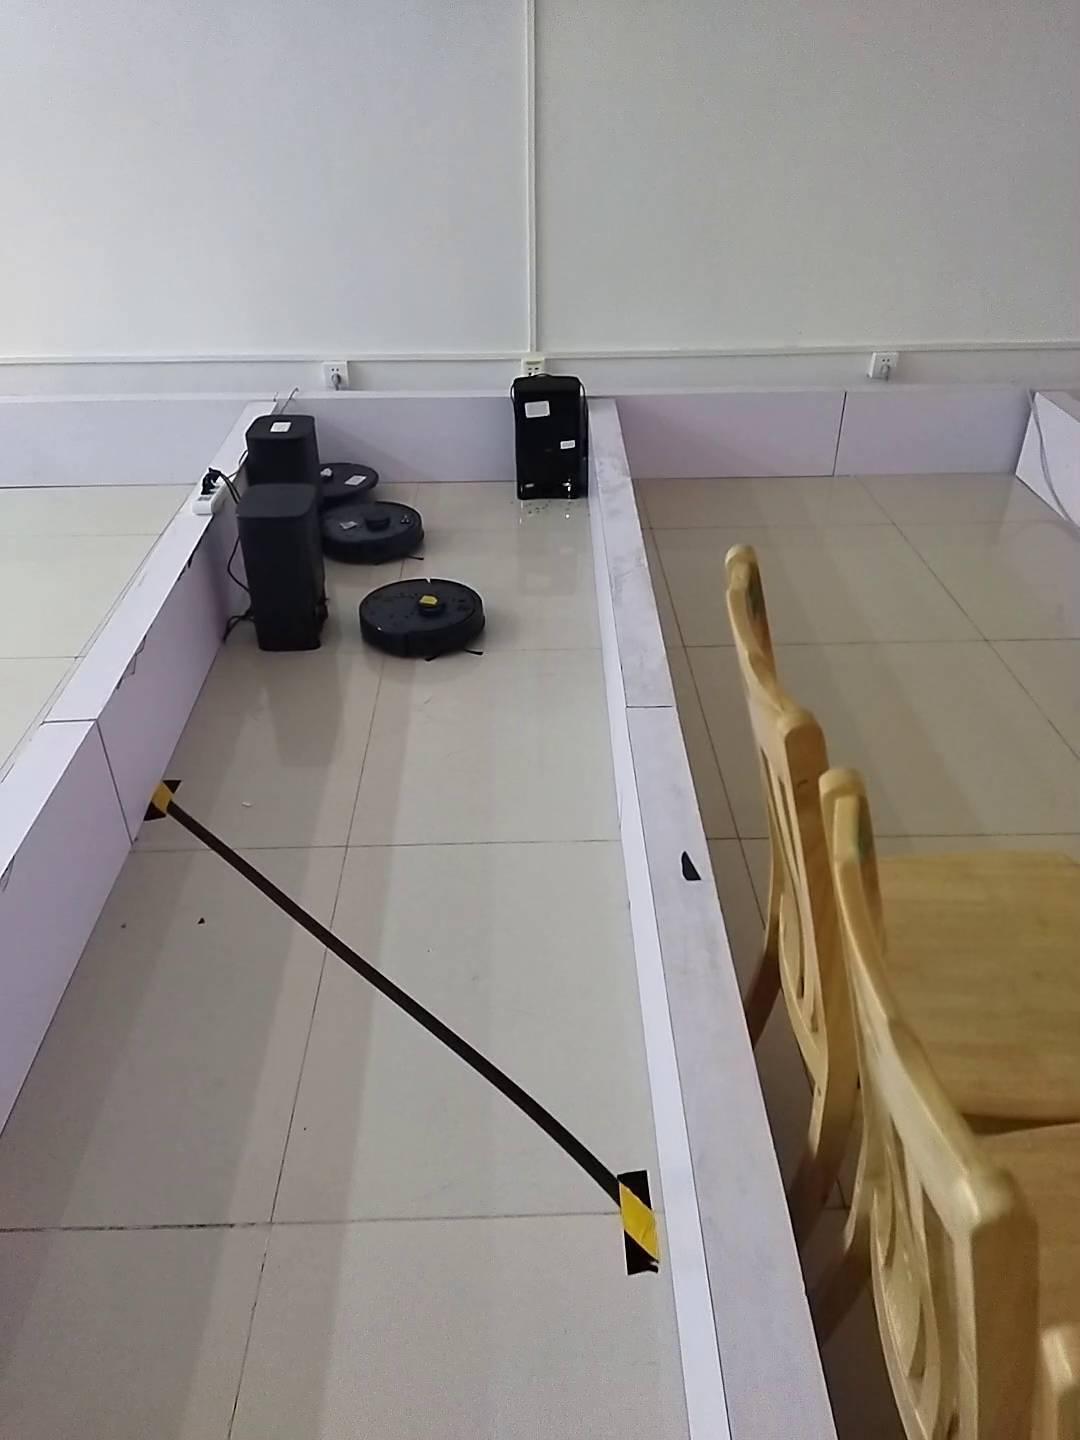dust collecting barrel: (237, 484, 337, 653), (511, 373, 590, 500), (244, 414, 319, 478)
